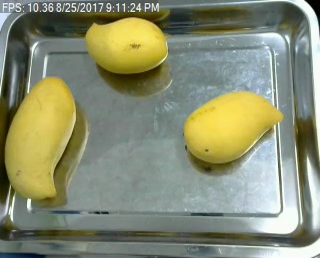Mango: (0, 76, 80, 201), (183, 86, 283, 165), (83, 14, 167, 73)
